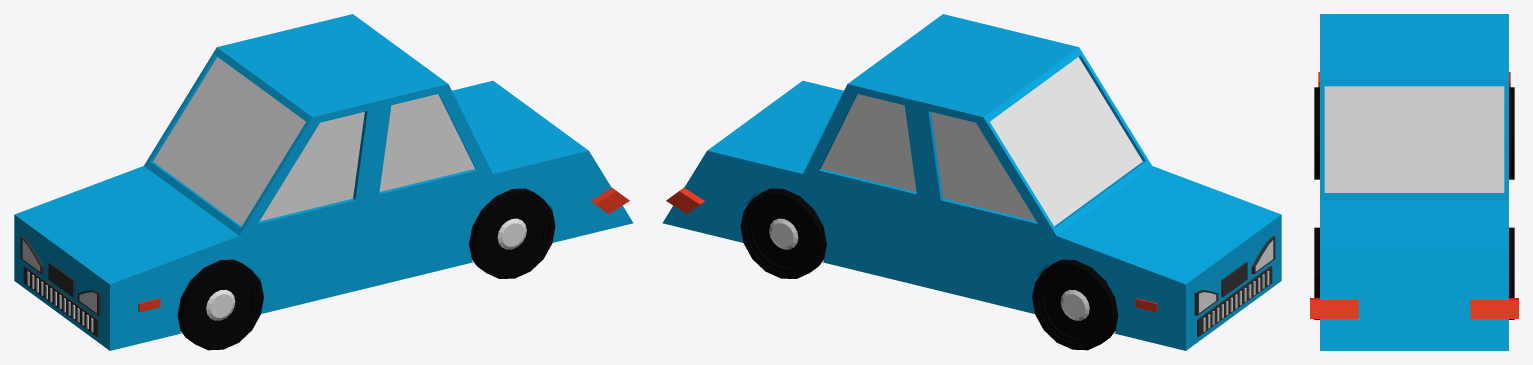
The model's file is vehicles.fbx.
3 views of the same model, side by side, from view 1: azimuth 30°, elevation 25°; view 2: azimuth 150°, elevation 25°; view 3: azimuth 270°, elevation 25° (orthographic).
Visible parts, largest first — view 1: Cube.043, Cylinder.010, Cube.051, Cube.050, Cube.053, Cube.054, Cube.052; view 2: Cube.043, Cylinder.010, Cube.051, Cube.050, Cube.053, Cube.054, Cube.052; view 3: Cube.043, Cylinder.010, Cube.054.
Boxes of the visible parts, <box> form: Cube.043: <box>14,14,633,350</box>; Cylinder.010: <box>177,188,555,350</box>; Cube.051: <box>23,266,98,336</box>; Cube.050: <box>20,236,101,315</box>; Cube.053: <box>27,271,93,332</box>; Cube.054: <box>591,187,629,213</box>; Cube.052: <box>48,262,74,297</box>; Cube.043: <box>662,14,1281,350</box>; Cylinder.010: <box>740,188,1118,350</box>; Cube.051: <box>1197,266,1272,336</box>; Cube.050: <box>1194,236,1275,315</box>; Cube.053: <box>1203,271,1269,331</box>; Cube.054: <box>666,187,704,213</box>; Cube.052: <box>1221,262,1247,297</box>; Cube.043: <box>1320,14,1508,350</box>; Cylinder.010: <box>1314,87,1514,319</box>; Cube.054: <box>1310,298,1518,318</box>.
Size of the model in its own units: 99.8 by 37.69 by 34.68.
